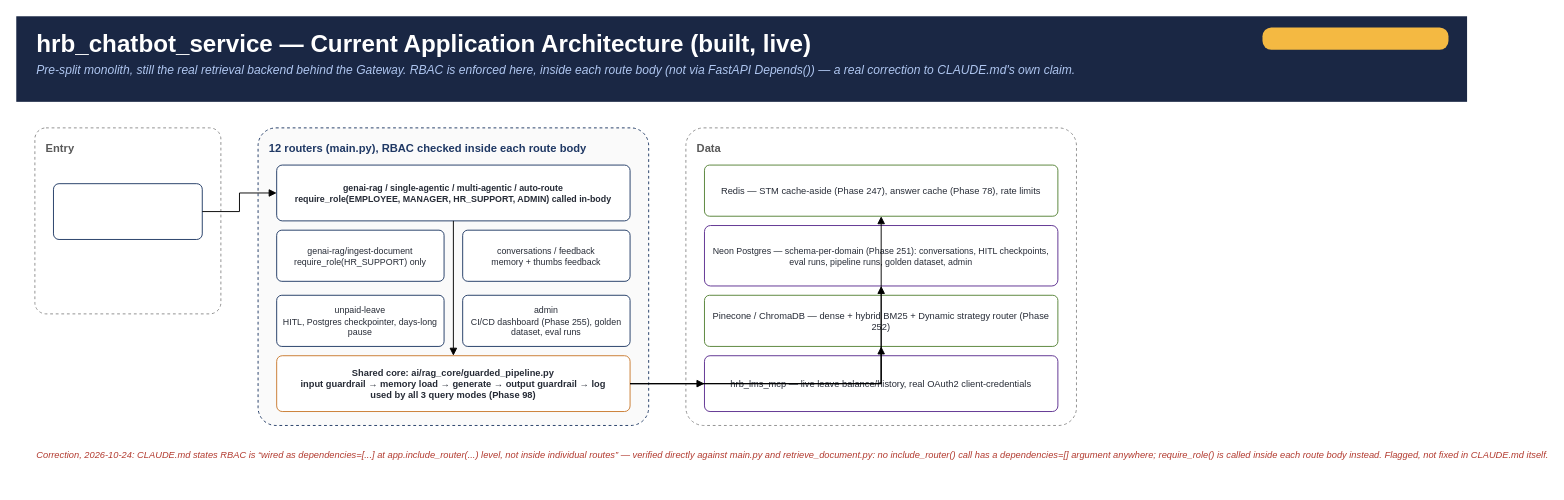
This 1564x500 diagram has some shape labels left out. The centre of each missing label's shape, as x and y in pixels:
"hrb_api_gateway_service forwards /v1/*" belongs at point (127, 211).
"VIEW · current state (built)" belongs at point (1355, 38).
